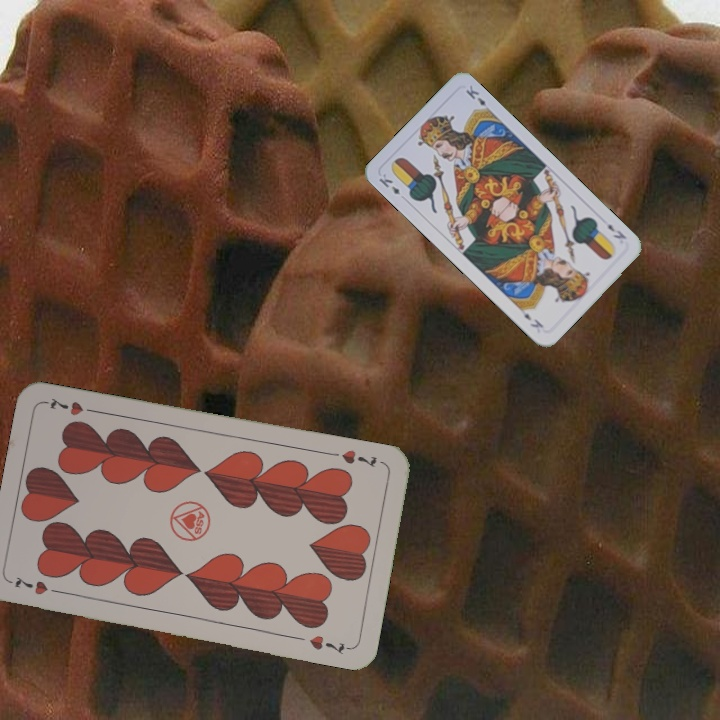EK: (375, 169, 403, 197), (603, 220, 629, 242)
H7: (8, 573, 67, 598), (326, 446, 379, 470)
